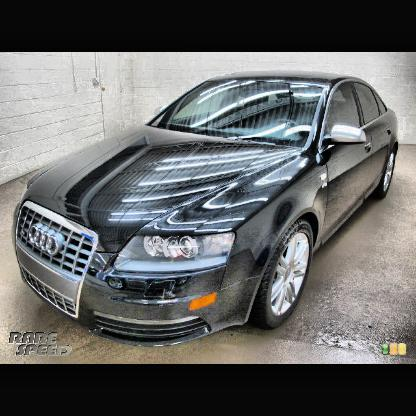Audi S6 Sedan 2011: (16, 75, 399, 348)
